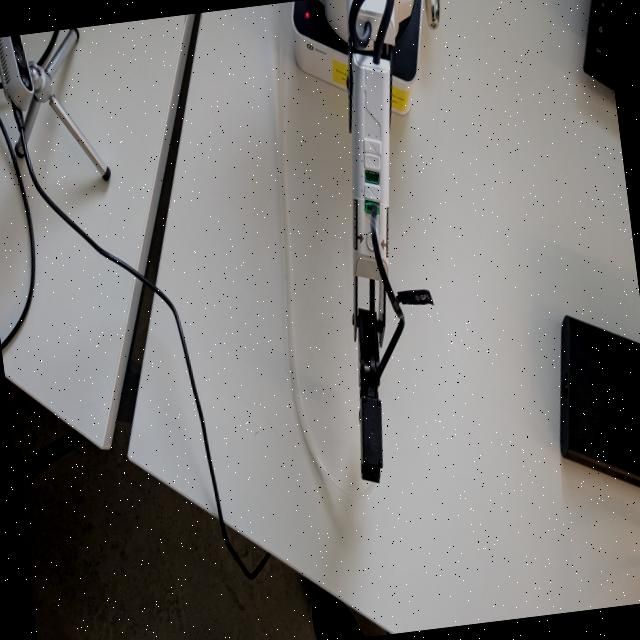Robot-end-effector-HF8z: (339, 380, 403, 496)
